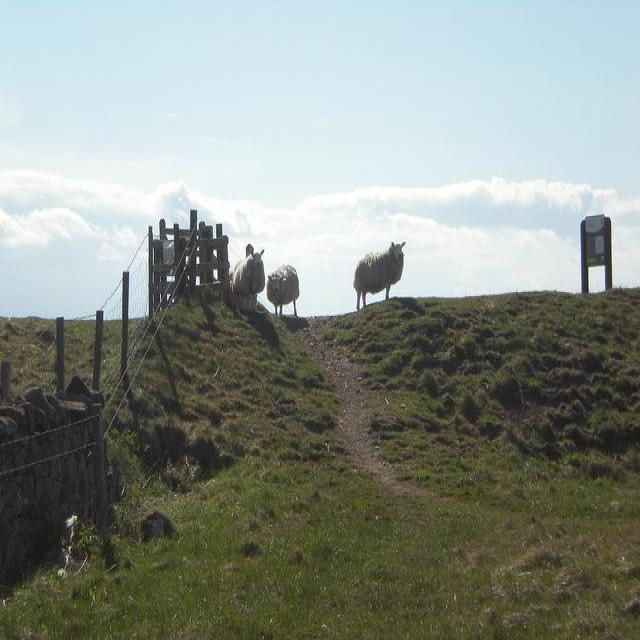Sheep: (351, 241, 407, 312), (233, 244, 267, 309)
